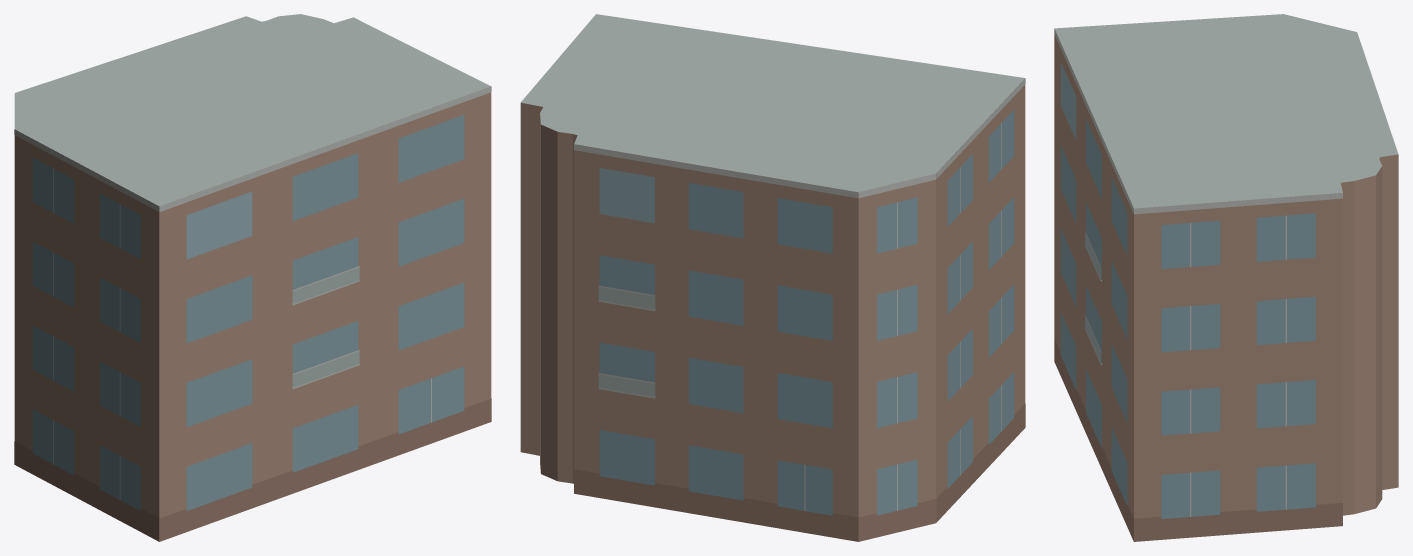
The model's file is survey-upis-32586970.glb.
The picture shows the model from 3 angles, left to right: view 1: azimuth 30°, elevation 25°; view 2: azimuth 150°, elevation 25°; view 3: azimuth 270°, elevation 25°; orthographic projection. The views are drawn at different scales.
Parts seen in each view (by area): view 1: survey-upis-32586970.tmp; view 2: survey-upis-32586970.tmp; view 3: survey-upis-32586970.tmp.
Part boxes in pixels (left/top/right/bottom): survey-upis-32586970.tmp: left=14, top=14, right=491, bottom=541; survey-upis-32586970.tmp: left=520, top=14, right=1025, bottom=541; survey-upis-32586970.tmp: left=1054, top=14, right=1398, bottom=541.
Size of the model in its own units: 17.65 by 14.08 by 13.19.
